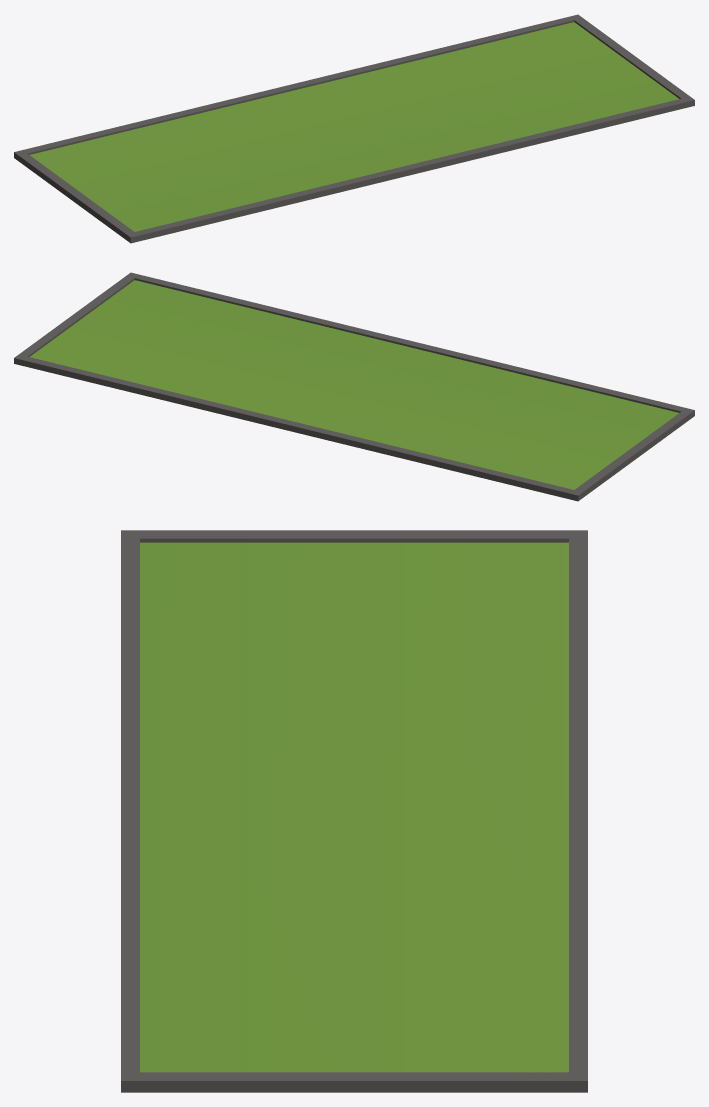
Rendered from SM_Floor_Garden_01.fbx.
3 views of the same model, one above another, from view 1: azimuth 30°, elevation 25°; view 2: azimuth 150°, elevation 25°; view 3: azimuth 270°, elevation 25° (orthographic). The views are drawn at different scales.
Visible parts, largest first — view 1: SM_Floor_Garden_01; view 2: SM_Floor_Garden_01; view 3: SM_Floor_Garden_01.
Part boxes in pixels (x1=…): SM_Floor_Garden_01: x1=14, y1=14, x2=694, y2=243; SM_Floor_Garden_01: x1=14, y1=272, x2=694, y2=501; SM_Floor_Garden_01: x1=121, y1=530, x2=587, y2=1092.
Size of the model in its own units: 7.56 by 0.075 by 2.71.
